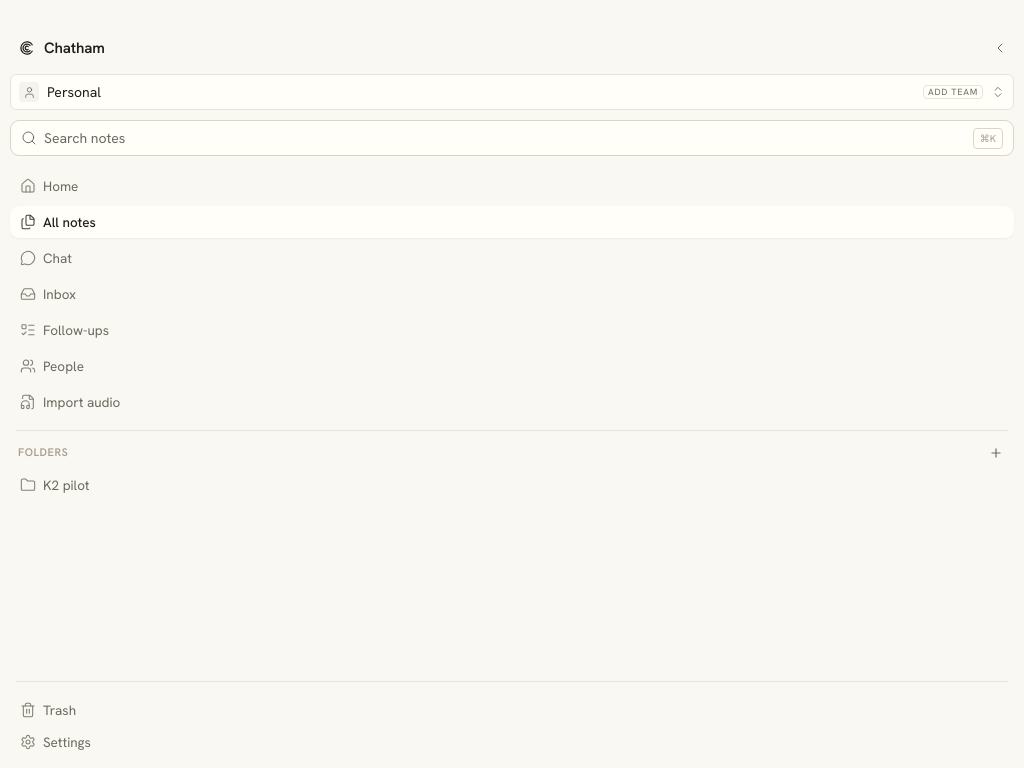
it: Sidebar folder chat (#110) › leaves the folder alone when a conversation refuses to delete
Right-click the link "K2 pilot" at (55, 485), box [20,476,90,494]
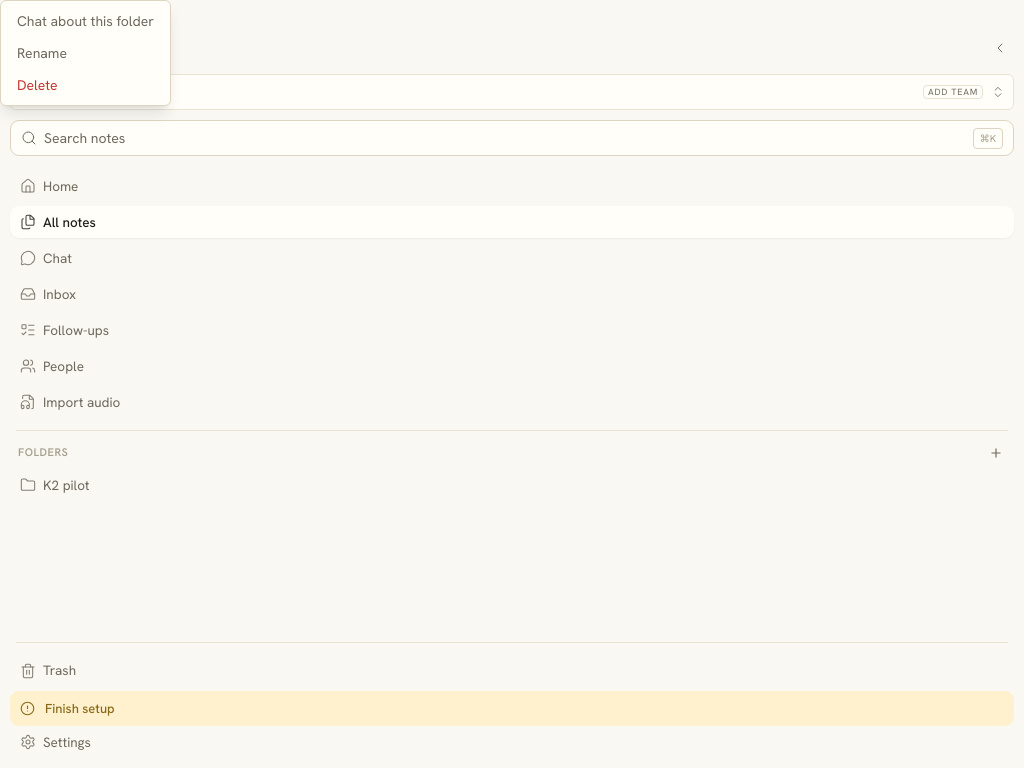
Click the menu item "Delete" at (37, 85), box [17,76,58,94]
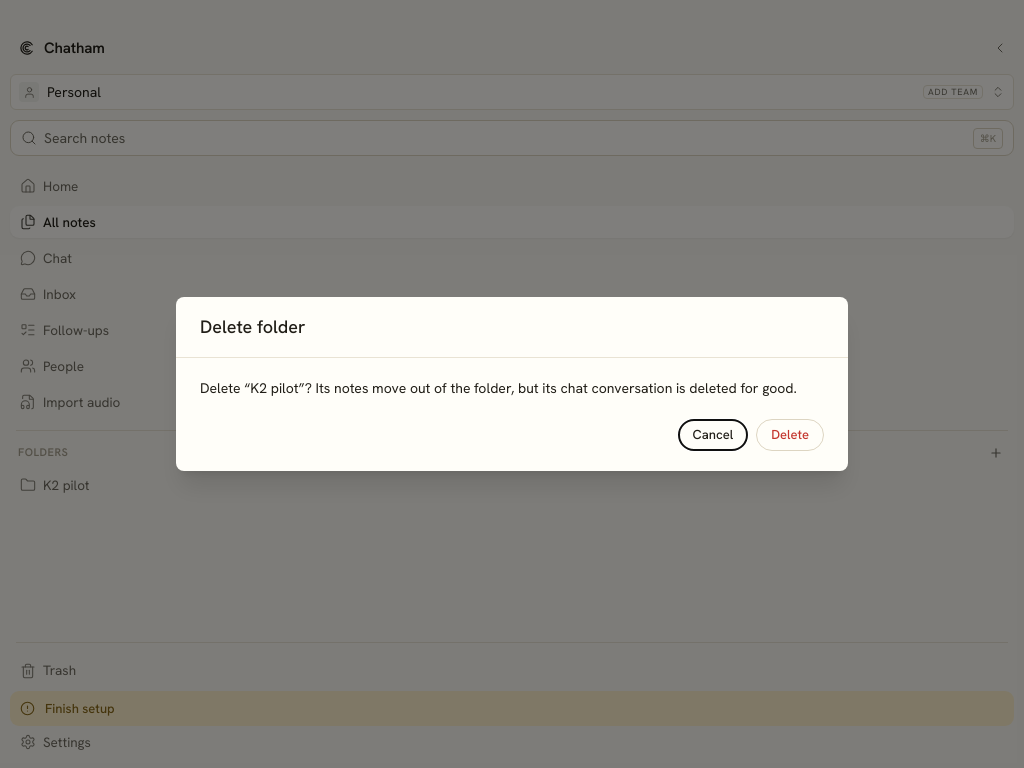
Click the button "Delete" at (790, 435), box [756,419,824,451]
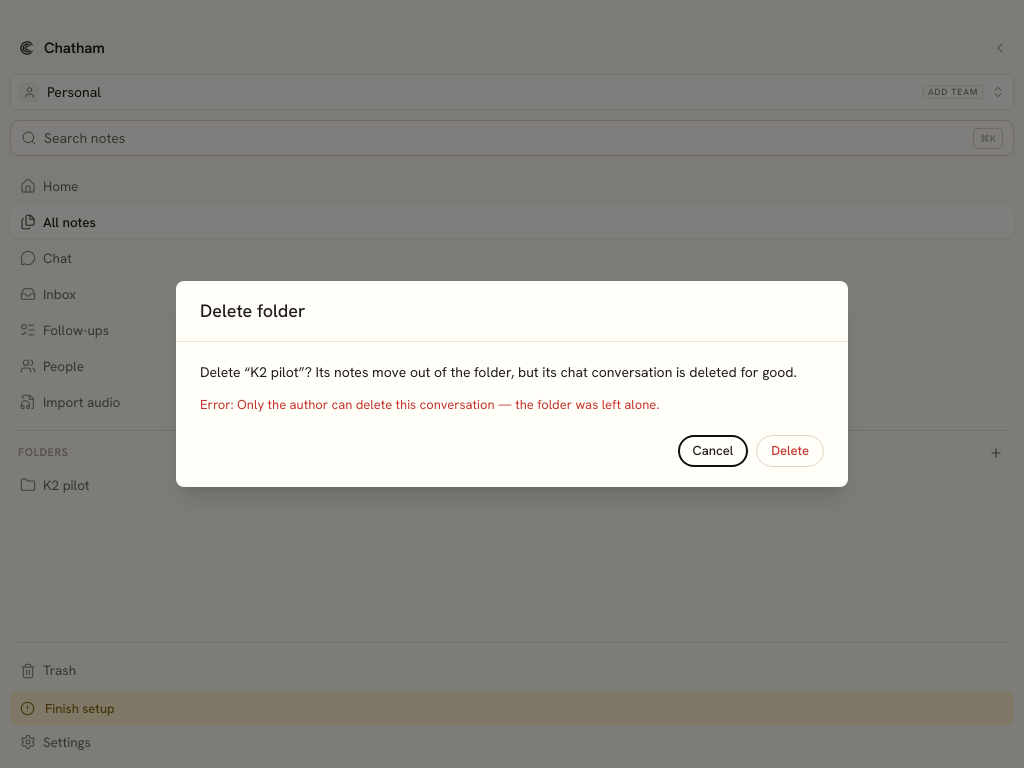
Result: the text "the folder was left alone" is shown at [495,396,659,413]
